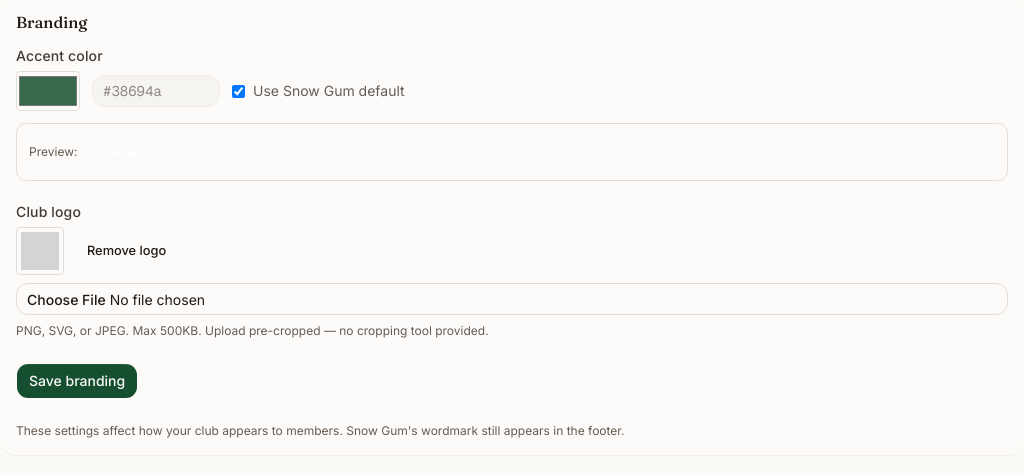
Test: BrandingSettingsForm › (c) removeLogo toggle shows/hides undo affordance › clicking 'Remove logo' shows the undo affordance
Click the button "Remove logo" at (127, 251), box [76,235,177,267]
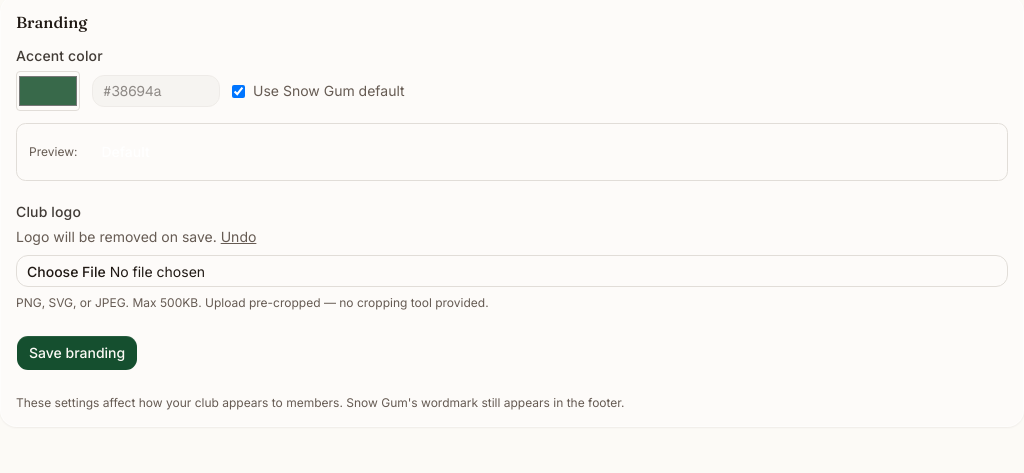
Expected: the button "Undo" is shown, [221,227,256,247]
